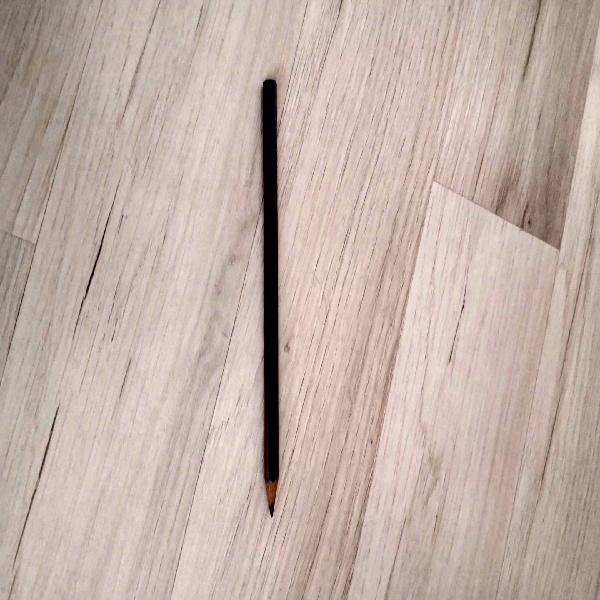pencil: (256, 75, 289, 524)
